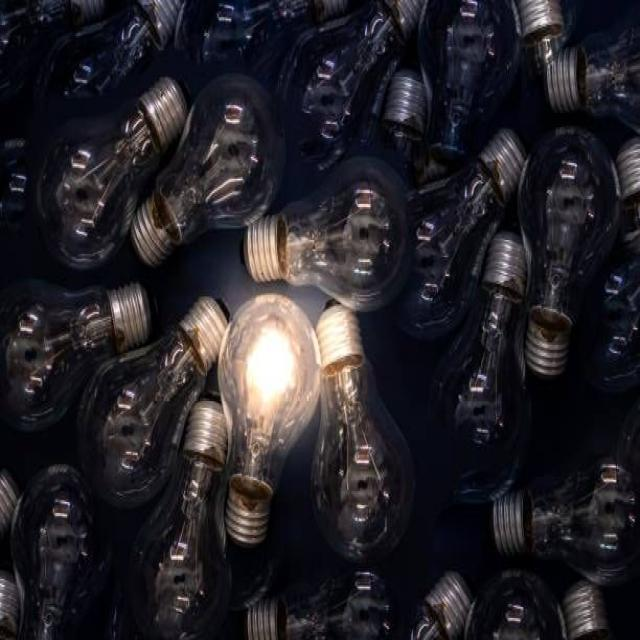electronic: (0, 0, 639, 638), (130, 70, 284, 266), (35, 72, 187, 270), (242, 151, 414, 312), (310, 300, 414, 563), (215, 290, 321, 546)
